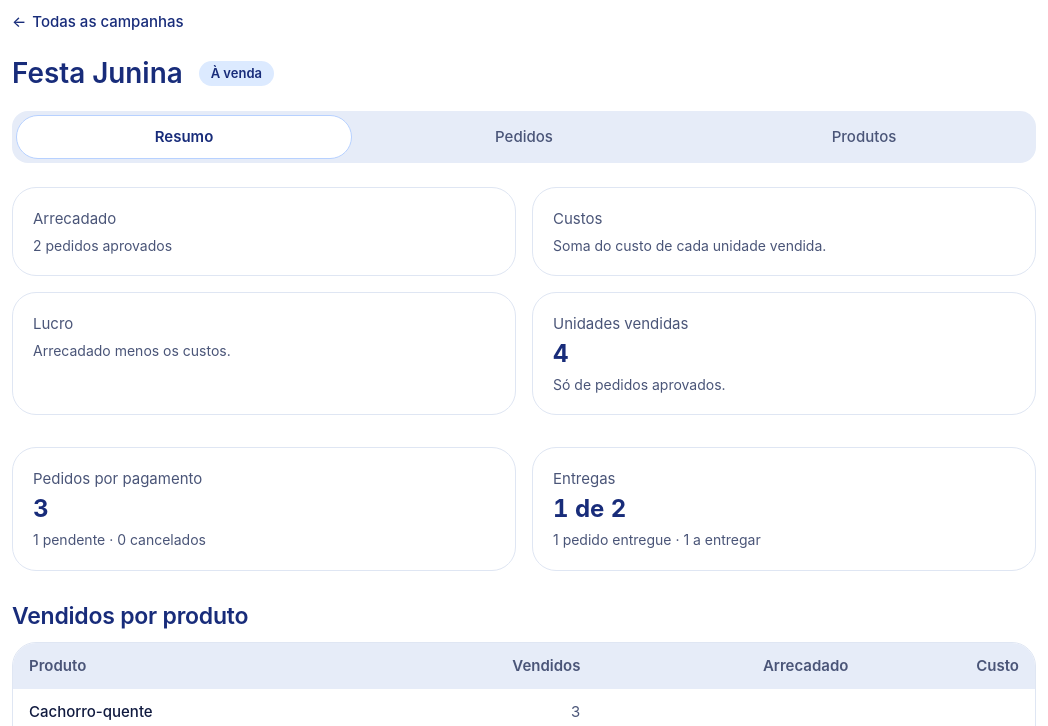
Scenario: pagina da campanha › trocar de aba mostra os pedidos, atualiza o endereco e nao recarrega os numeros
Expected: the heading "Festa Junina" is shown, x1=12 y1=56 x2=183 y2=91
Click the tab "Pedidos" at (524, 137), box x1=356 y1=115 x2=692 y2=159
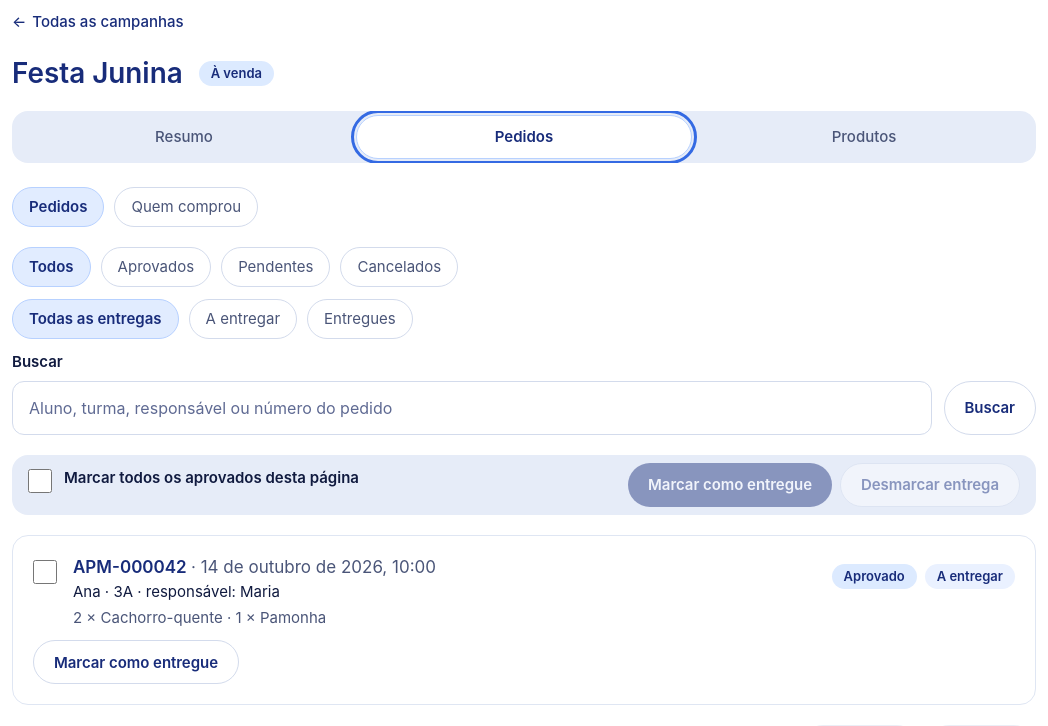
Now the list named "Pedidos da campanha" is shown, box x1=12 y1=534 x2=1036 y2=705
